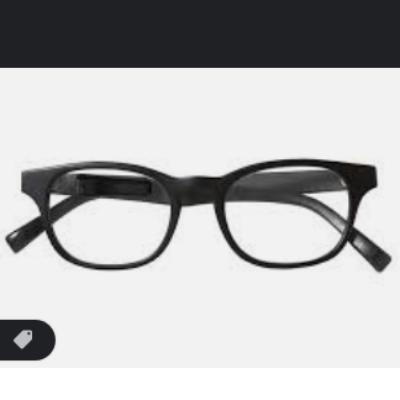glasses: (8, 156, 395, 288)
